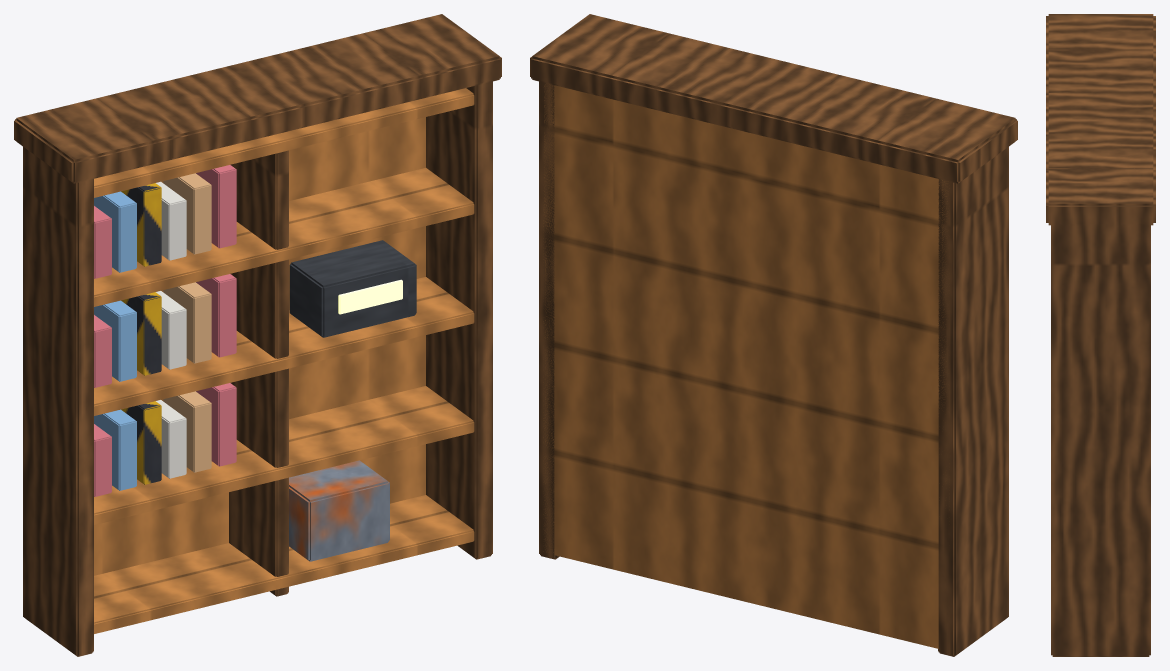
Rendered from furn_bookshelf.glb.
The picture shows the model from 3 angles, left to right: view 1: azimuth 30°, elevation 25°; view 2: azimuth 150°, elevation 25°; view 3: azimuth 270°, elevation 25°; orthographic projection. The views are drawn at different scales.
Parts seen in each view (by area): view 1: furn_bookshelf; view 2: furn_bookshelf; view 3: furn_bookshelf.
Part boxes in pixels (left/top/right/bottom): furn_bookshelf: left=14, top=14, right=501, bottom=656; furn_bookshelf: left=530, top=14, right=1017, bottom=656; furn_bookshelf: left=1046, top=14, right=1155, bottom=656.
Size of the model in its own units: 1.9 by 2.11 by 0.46.
10 materials, 5 textured.
